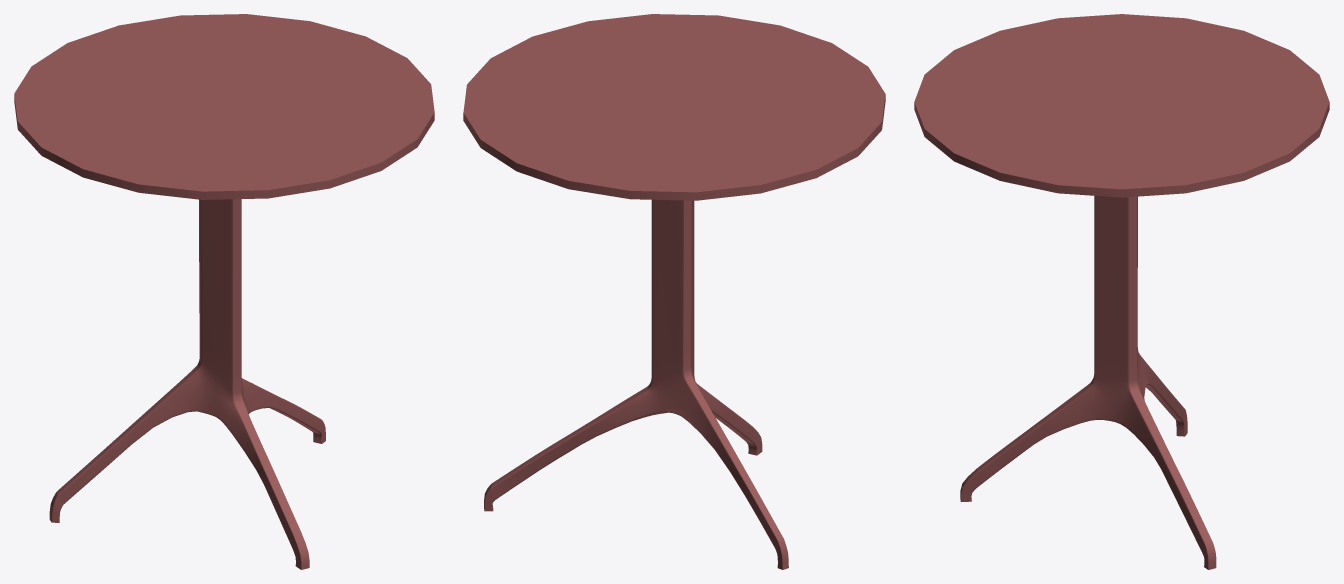
Rendered from MesaRedondaV3UV.fbx.
3 views of the same model, side by side, from view 1: azimuth 30°, elevation 25°; view 2: azimuth 150°, elevation 25°; view 3: azimuth 270°, elevation 25° (orthographic). The views are drawn at different scales.
Visible parts, largest first — view 1: TablaMesaRedonda, Plane001; view 2: TablaMesaRedonda, Plane001; view 3: TablaMesaRedonda, Plane001.
Part boxes in pixels (<box>): TablaMesaRedonda: <box>14,14,434,199</box>; Plane001: <box>49,199,325,569</box>; TablaMesaRedonda: <box>463,14,885,200</box>; Plane001: <box>484,199,788,569</box>; TablaMesaRedonda: <box>914,14,1329,197</box>; Plane001: <box>960,196,1216,569</box>.
Size of the model in its own units: 66.84 by 71.03 by 66.84.
